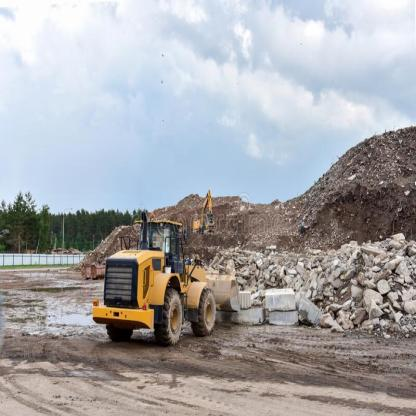bull_dozer/loader/grader: (101, 210, 243, 349)
